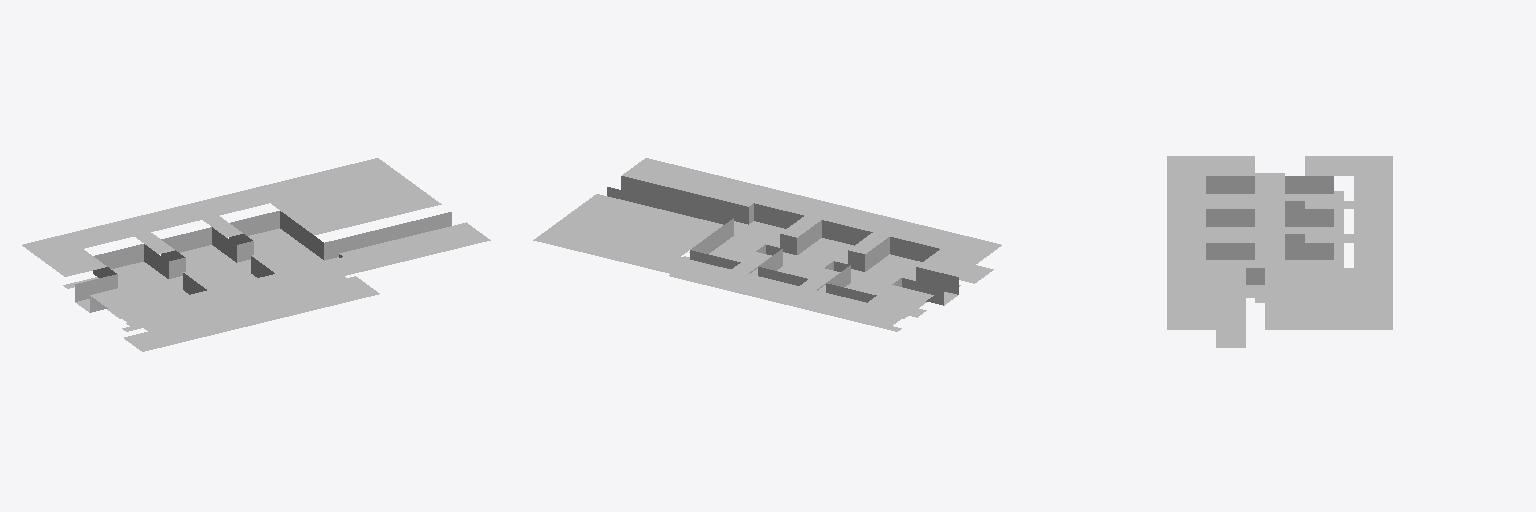
Rendered from lvl_shipMovingWallRoom.obj.
3 views of the same model, side by side, from view 1: azimuth 30°, elevation 25°; view 2: azimuth 150°, elevation 25°; view 3: azimuth 270°, elevation 25° (orthographic).
Parts seen in each view (by area): view 1: Default; view 2: Default; view 3: Default.
Part boxes in pixels (x1,y1,x2,y2): Default: (22,158,490,351); Default: (533,158,1001,331); Default: (1167,156,1392,347).
Bounding box in the file's own units: 42 × 3 × 23.